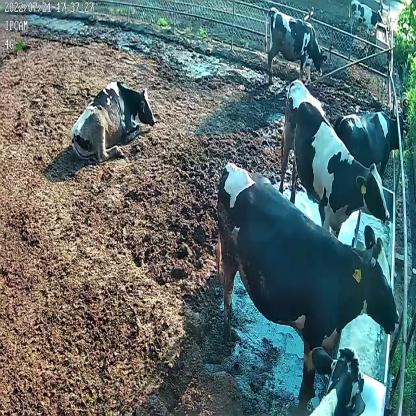cow: (217, 162, 401, 392), (278, 80, 391, 236), (68, 79, 156, 160), (264, 3, 326, 88), (334, 108, 407, 173)
